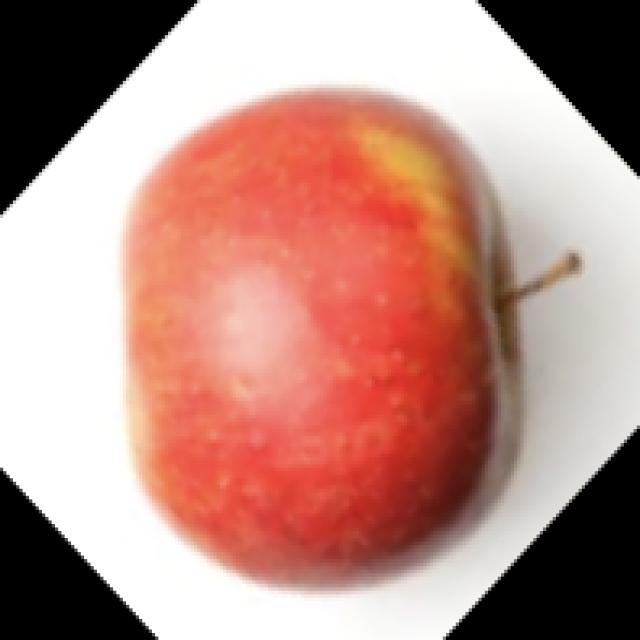Apple: (119, 85, 581, 586)
